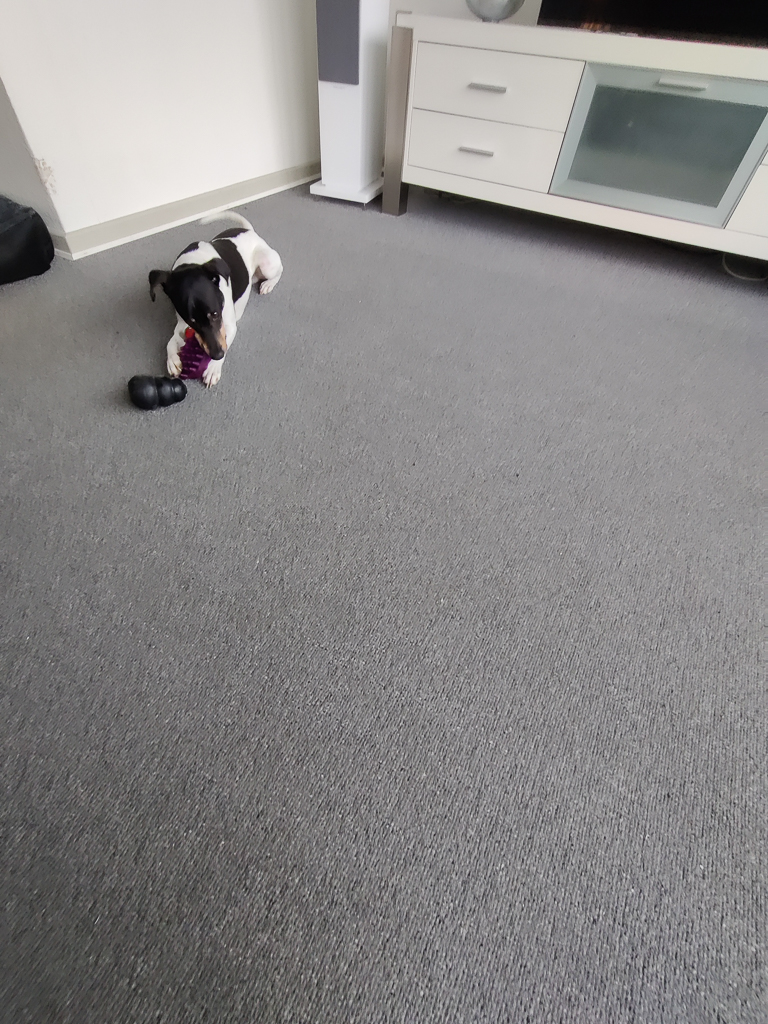Dog: (140, 200, 296, 395)
